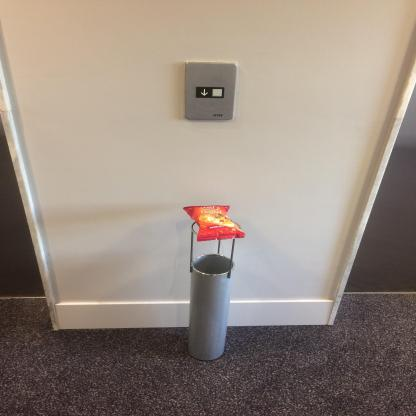Crisp packet: (183, 205, 245, 242)
